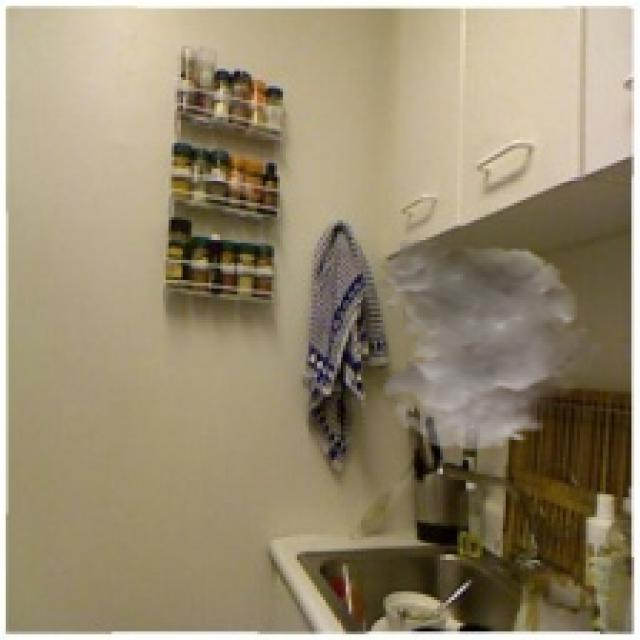smoke: (374, 237, 606, 452)
